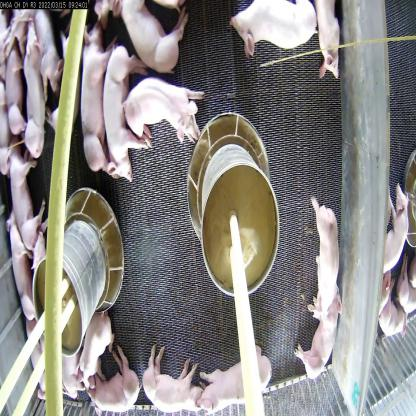Pig: (73, 18, 118, 172), (98, 47, 140, 180), (120, 1, 194, 75), (126, 78, 202, 148), (291, 290, 342, 384), (195, 342, 259, 415), (307, 189, 341, 321), (17, 26, 49, 158), (231, 4, 320, 50), (142, 353, 205, 416), (87, 356, 146, 416), (7, 146, 38, 248), (79, 294, 113, 380), (10, 221, 33, 316)
